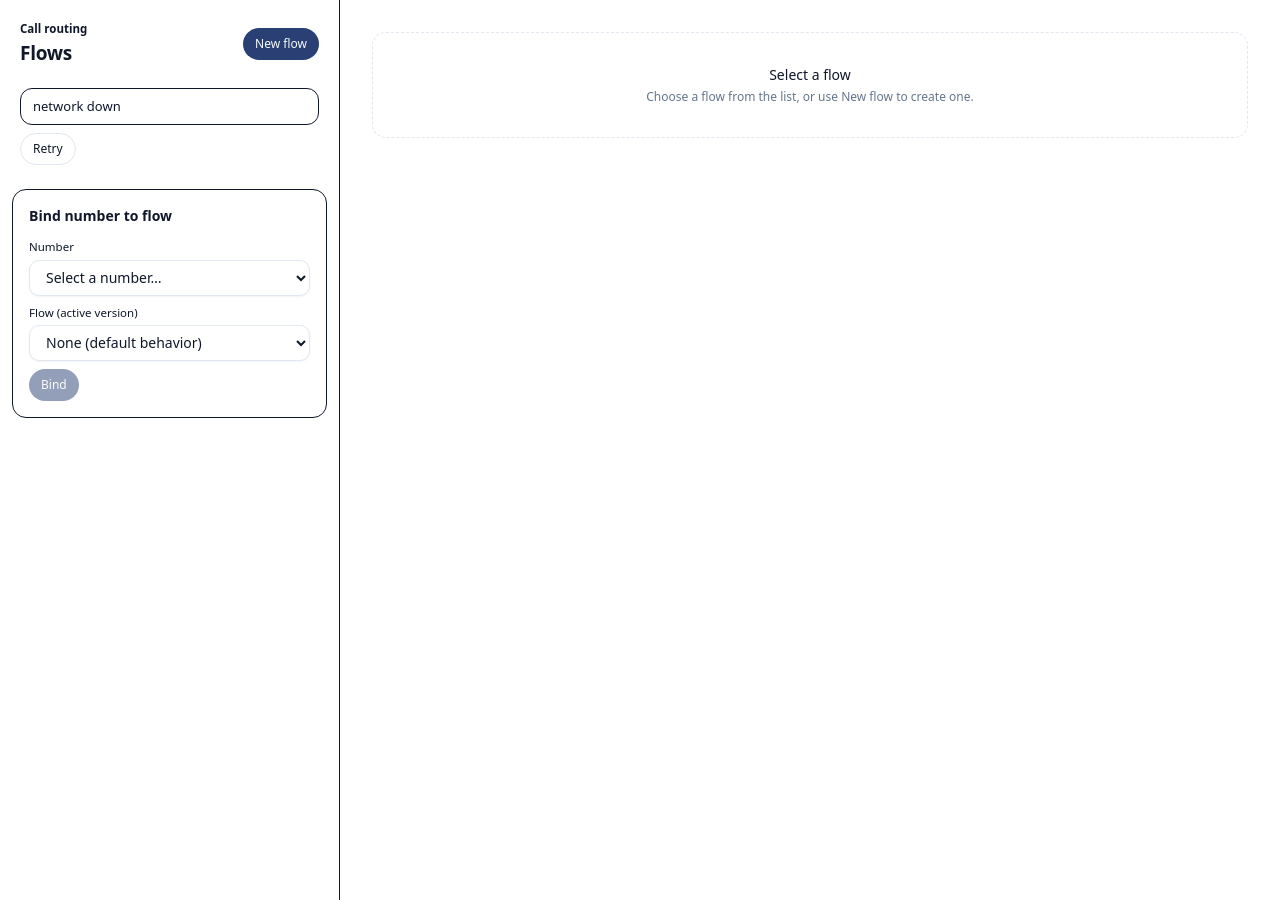
Test: FlowsPage › shows an error with a retry button when the flow list fails to load
Check: the message reads "network down", box x1=33 y1=97 x2=121 y2=115
Click the button "Retry" at (48, 149), box x1=20 y1=133 x2=76 y2=165
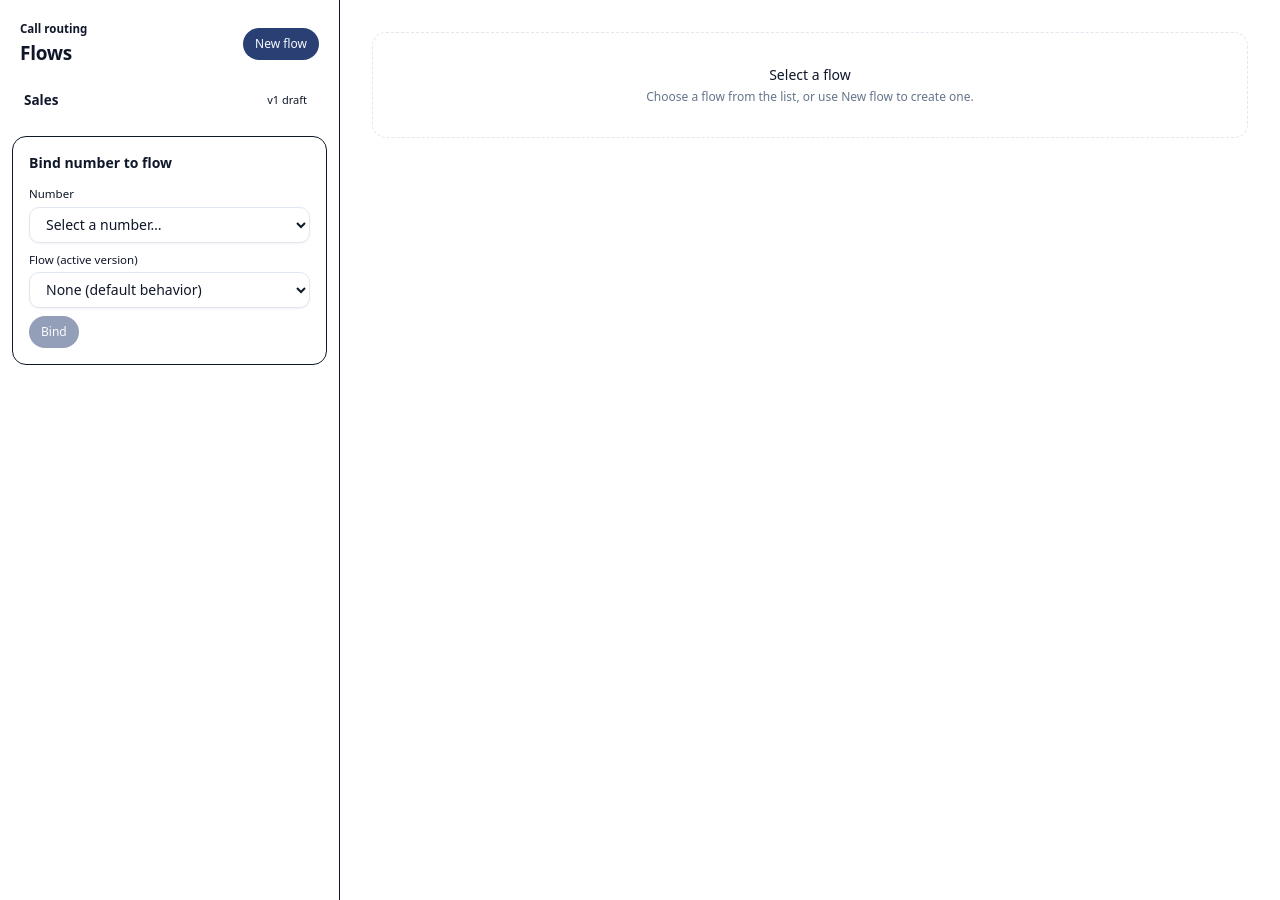
Check: the button "Sales v1 draft" is shown, box x1=12 y1=80 x2=327 y2=120
